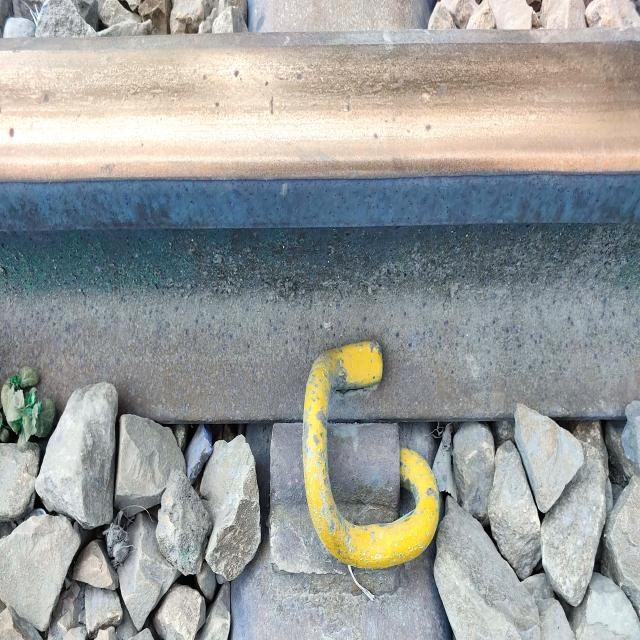Good Fasteners: (203, 267, 503, 618)
